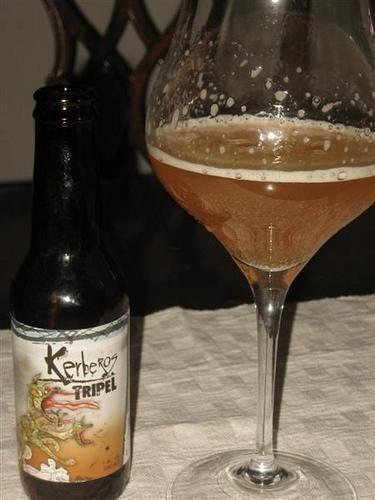bottle-glass: (9, 89, 132, 499)
glass-wine: (144, 1, 374, 499)
